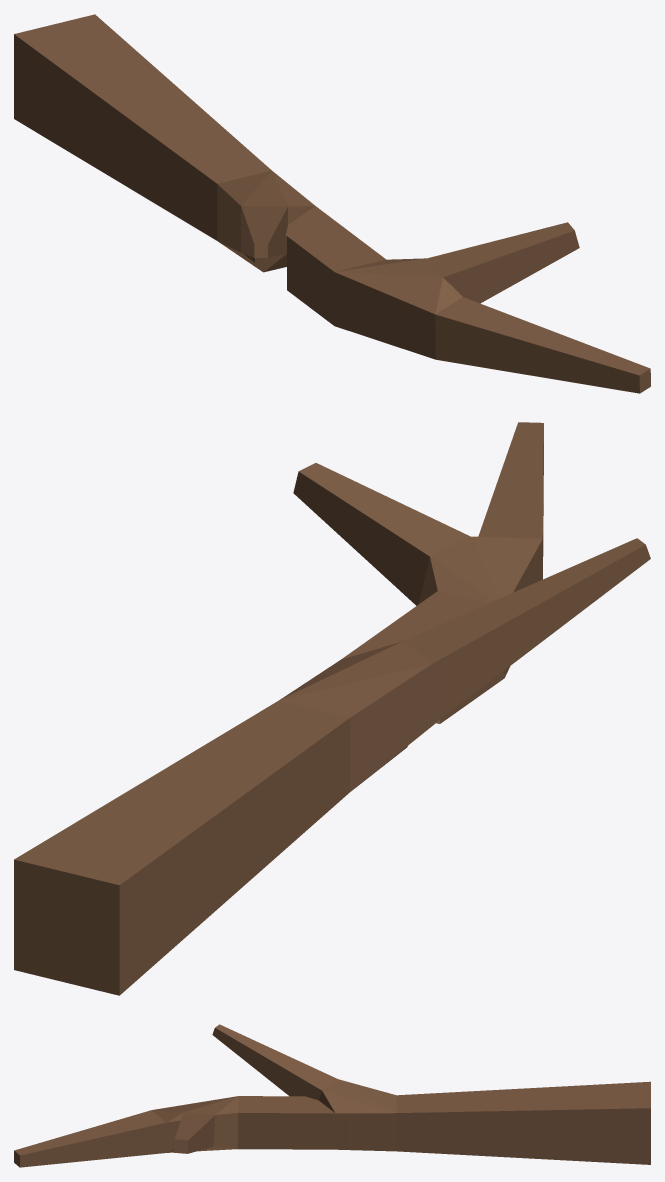
Rendered from Gren2.fbx.
3 renders of one model, top to bottom at view 1: azimuth 30°, elevation 25°; view 2: azimuth 150°, elevation 25°; view 3: azimuth 270°, elevation 25°, orthographic. The views are drawn at different scales.
Visible parts, largest first — view 1: Cube.004; view 2: Cube.004; view 3: Cube.004.
Part boxes in pixels (x1=…): Cube.004: x1=14, y1=14, x2=650, y2=393; Cube.004: x1=14, y1=422, x2=650, y2=995; Cube.004: x1=14, y1=1024, x2=650, y2=1167.
Bounding box in the file's own units: 79.04 × 33.25 × 220.
